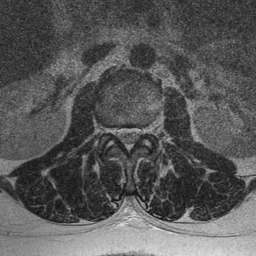CCS_normal: (125, 118, 133, 159)
LFS_normal: (142, 118, 151, 144)
LLS_normal: (133, 118, 142, 147)
RFS_normal: (107, 116, 116, 143)
RLS_normal: (116, 120, 125, 148)
